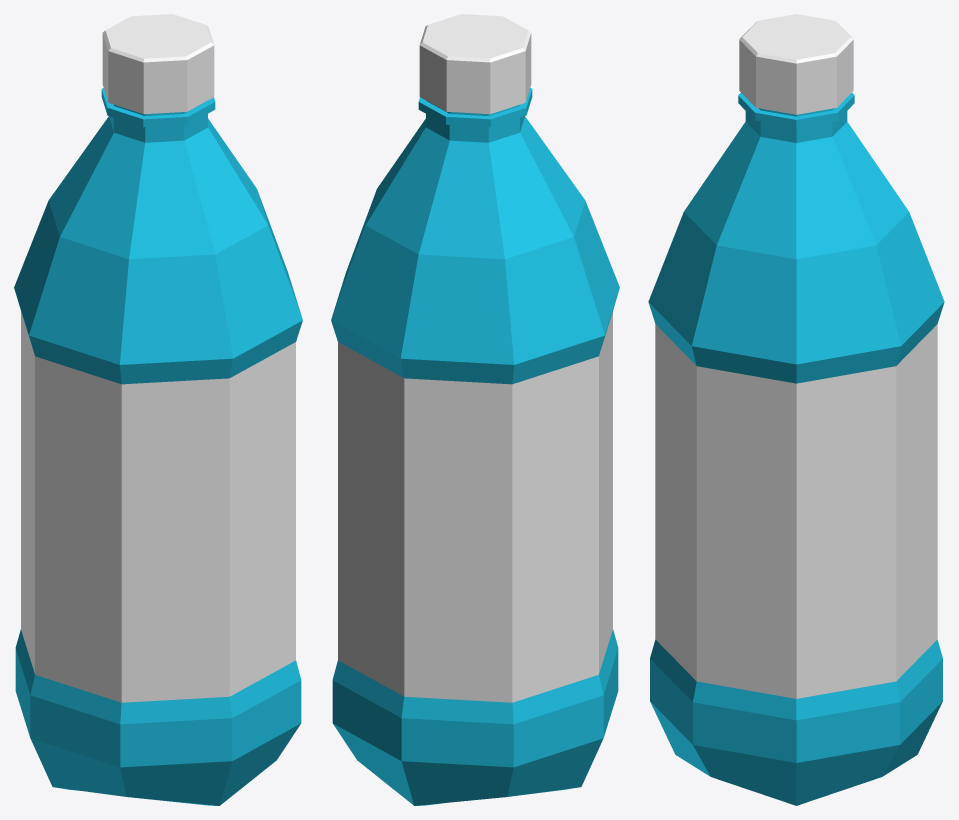
Rendered from Water_Bottle_01.gltf.
3 views of the same model, side by side, from view 1: azimuth 30°, elevation 25°; view 2: azimuth 150°, elevation 25°; view 3: azimuth 270°, elevation 25° (orthographic).
Visible parts, largest first — view 1: node-0; view 2: node-0; view 3: node-0.
Part boxes in pixels (x1,y1,x2,y2): node-0: [14, 14, 302, 805]; node-0: [331, 14, 619, 805]; node-0: [648, 14, 944, 805].
Size of the model in its own units: 3.69 by 9.95 by 3.69.
